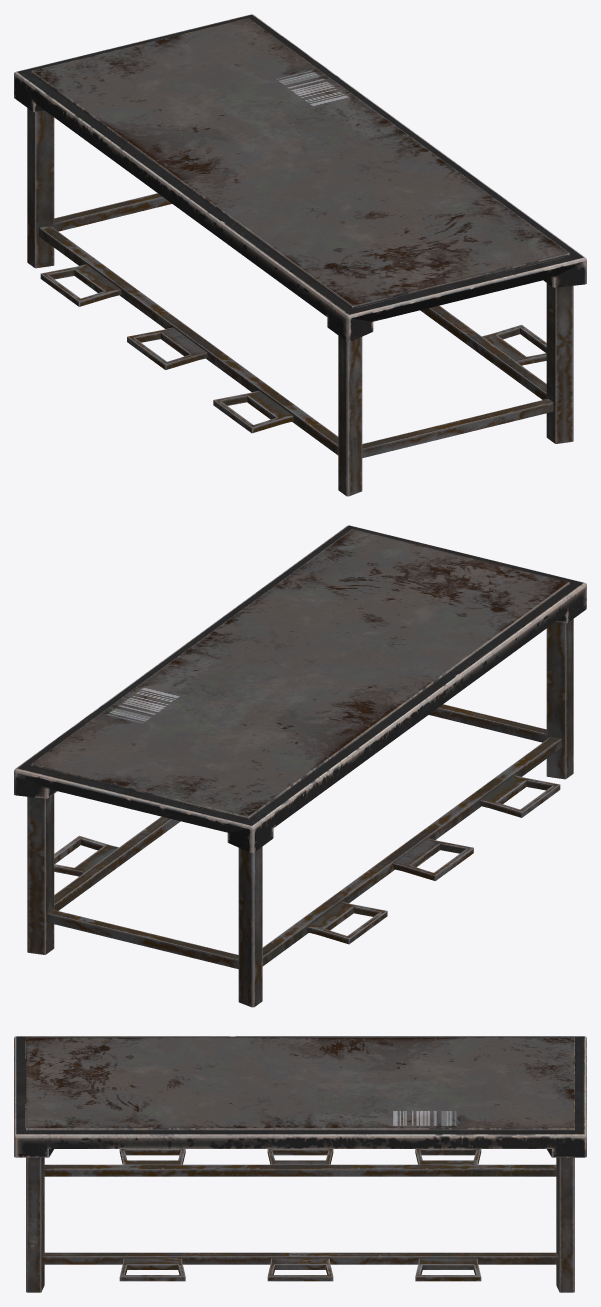
File: SM_Tables_LP_Eating_Table3.fbx
3 views of the same model, one above another, from view 1: azimuth 30°, elevation 25°; view 2: azimuth 150°, elevation 25°; view 3: azimuth 270°, elevation 25° (orthographic). The views are drawn at different scales.
Visible parts, largest first — view 1: SM_Tables_LP_Eating_Table3_LOD0; view 2: SM_Tables_LP_Eating_Table3_LOD0; view 3: SM_Tables_LP_Eating_Table3_LOD0.
Boxes of the visible parts, box(x1,y1,x2,y2) form: SM_Tables_LP_Eating_Table3_LOD0: box(14, 14, 586, 496); SM_Tables_LP_Eating_Table3_LOD0: box(14, 525, 586, 1007); SM_Tables_LP_Eating_Table3_LOD0: box(14, 1036, 586, 1292).
Bounding box in the file's own units: 180 × 339 × 106.
Materials: 1 (1 with a texture image).
